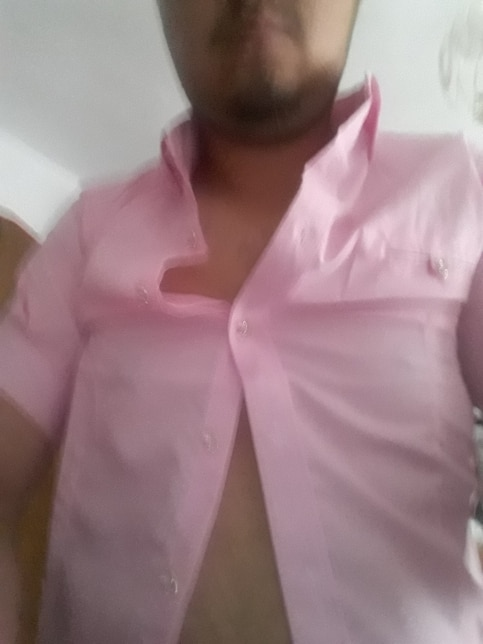shirts: (67, 97, 483, 619)
